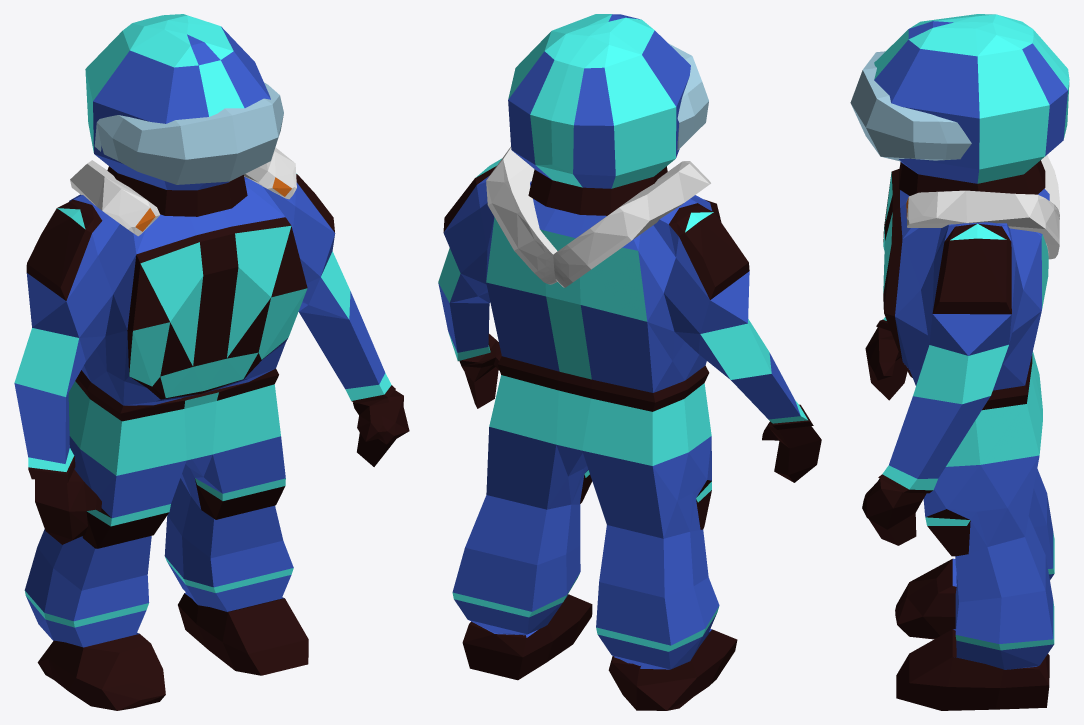
Rendered from RescueCharakter2.fbx.
The picture shows the model from 3 angles, left to right: view 1: azimuth 30°, elevation 25°; view 2: azimuth 150°, elevation 25°; view 3: azimuth 270°, elevation 25°; orthographic projection.
Parts seen in each view (by area): view 1: Body, Visor, Headlamp1; view 2: Body, Headlamp1, Visor; view 3: Body, Headlamp1, Visor.
Boxes of the visible parts, x1,y1,x2,y2 form: Body: (14, 14, 409, 710); Visor: (94, 82, 283, 184); Headlamp1: (70, 147, 296, 236); Body: (438, 14, 821, 710); Headlamp1: (486, 147, 710, 287); Visor: (668, 43, 708, 150); Body: (862, 14, 1069, 710); Headlamp1: (906, 155, 1059, 259); Visor: (850, 51, 971, 161).
Bounding box in the file's own units: 376 × 625 × 193.
